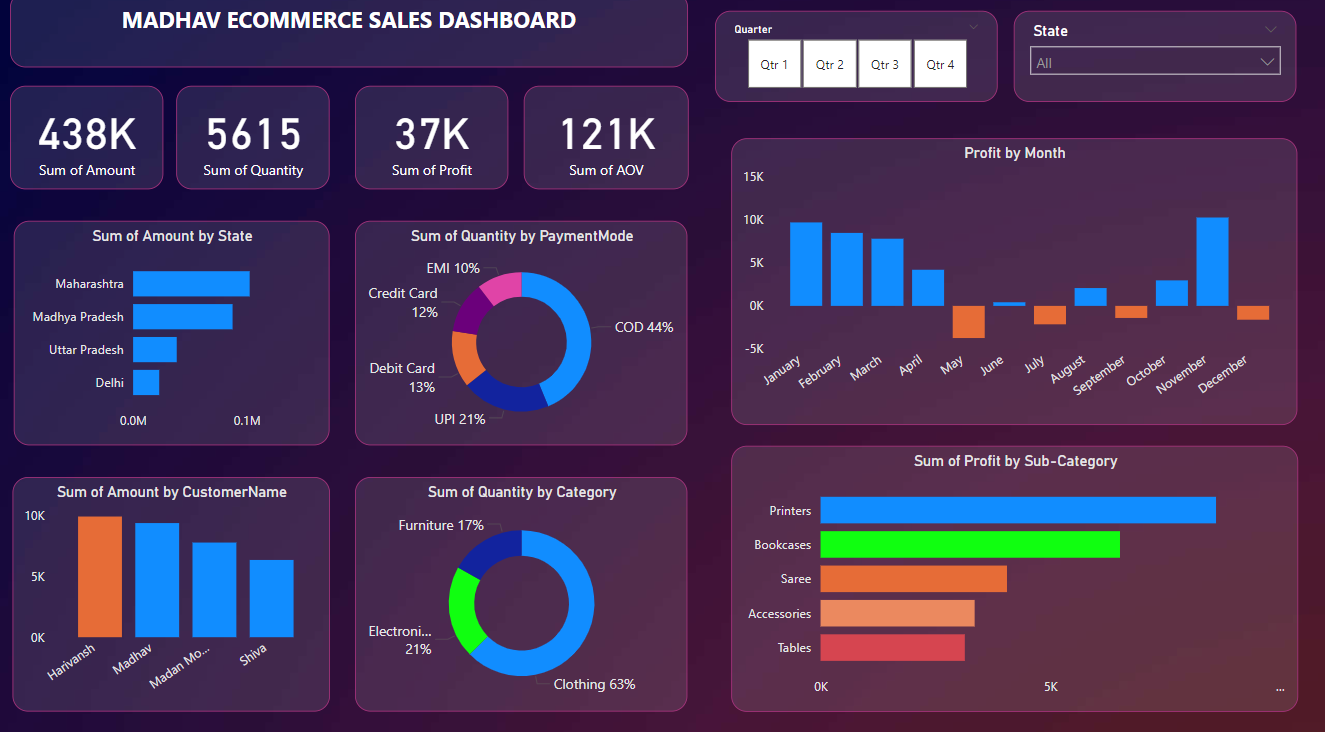

The page's visual inventory and layout, read from the dashboard file:
{"tool":"powerbi","page":{"name":"Page 1","canvas":[1280,720],"ordinal":0},"visuals":[{"type":"textbox","box":[9.6,0,654.5,72.7],"z":0},{"type":"columnChart","title":"Profit by Month","fields":{"Y":["Details.Profit"],"Category":["Orders.Order Date.Variation.Date Hierarchy.Month"]},"box":[705.3,141.3,546.1,277.2],"z":1000},{"type":"barChart","fields":{"Category":["Details.Sub-Category"],"Y":["Details.Profit"]},"box":[705.3,437.7,547.5,256.6],"z":2000},{"type":"donutChart","fields":{"Category":["Details.Category"],"Y":["Details.Quantity"]},"box":[343.1,467.9,321.1,226.4],"z":3000},{"type":"donutChart","fields":{"Y":["Details.Quantity"],"Category":["Details.PaymentMode"]},"box":[343.1,220.9,321.1,216.8],"z":4000},{"type":"card","fields":{"Values":["Details.Amount"]},"box":[9.7,90.5,148.4,100.1],"z":5000},{"type":"card","fields":{"Values":["Details.Quantity"]},"box":[170.2,90.6,148.2,100.2],"z":6000},{"type":"card","fields":{"Values":["Details.Profit"]},"box":[343.1,90.6,148.2,100.2],"z":7000},{"type":"card","fields":{"Values":["Details.AOV"]},"box":[505,90.6,159.2,100.2],"z":8000},{"type":"barChart","fields":{"Category":["Orders.State"],"Y":["Details.Amount"]},"box":[13.7,220.9,304.6,216.8],"z":9000},{"type":"columnChart","fields":{"Category":["Orders.CustomerName"],"Y":["Details.Amount"]},"box":[12.3,467.9,306,226.4],"z":10000},{"type":"slicer","fields":{"Values":["Orders.Order Date.Variation.Date Hierarchy.Quarter"]},"box":[690.2,17.8,273.1,87.8],"z":11000},{"type":"slicer","fields":{"Values":["Orders.State"]},"box":[978.4,17.8,273.1,87.8],"z":12000}]}

Visuals, with their boxes in screenshot pixels (x1, y1, x2, y2), scaled from the page's 1280x720 canvas onto the 1325x732 screenshot:
textbox: rect(10, 0, 687, 74)
"Profit by Month" columnChart: rect(730, 144, 1295, 425)
barChart - Details.Sub-Category x Details.Profit: rect(730, 445, 1297, 706)
donutChart - Details.Category x Details.Quantity: rect(355, 476, 688, 706)
donutChart - Details.Quantity x Details.PaymentMode: rect(355, 225, 688, 445)
card - Details.Amount: rect(10, 92, 164, 194)
card - Details.Quantity: rect(176, 92, 330, 194)
card - Details.Profit: rect(355, 92, 509, 194)
card - Details.AOV: rect(523, 92, 688, 194)
barChart - Orders.State x Details.Amount: rect(14, 225, 329, 445)
columnChart - Orders.CustomerName x Details.Amount: rect(13, 476, 329, 706)
slicer - Orders.Order Date.Variation.Date Hierarchy.Quarter: rect(714, 18, 997, 107)
slicer - Orders.State: rect(1013, 18, 1295, 107)
